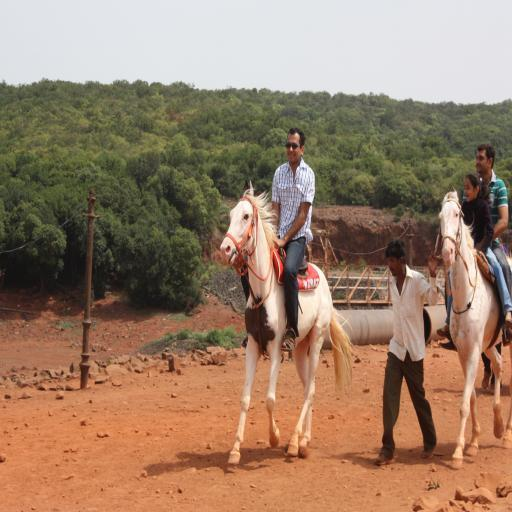horse: (218, 179, 358, 469), (436, 188, 512, 474)
